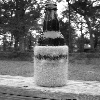beer: (31, 1, 73, 93)
